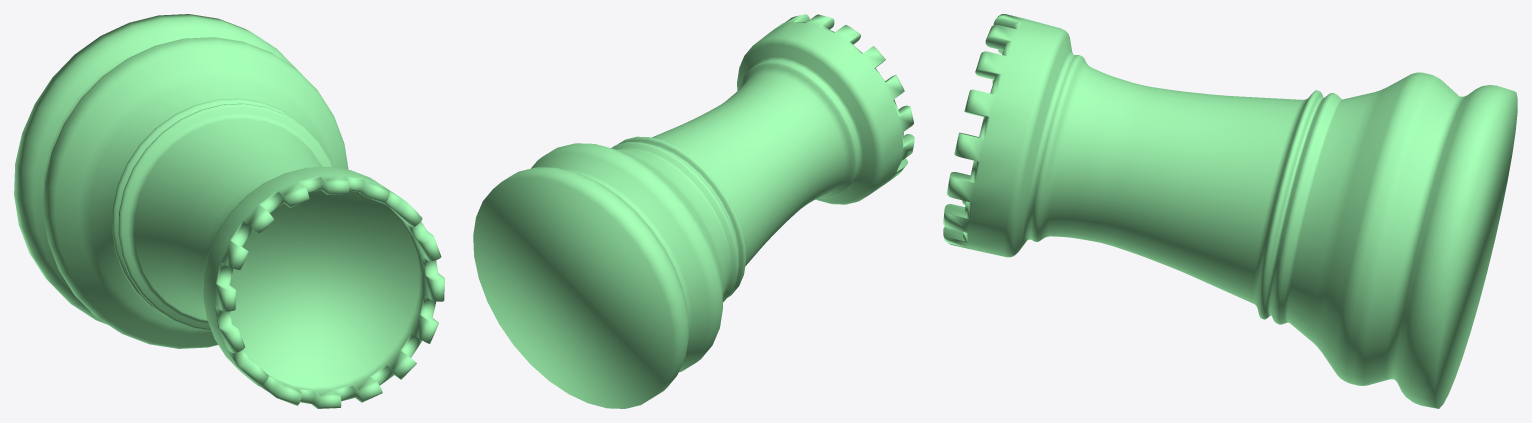
File: dark_rock_2.fbx
3 renders of one model, left to right at view 1: azimuth 30°, elevation 25°; view 2: azimuth 150°, elevation 25°; view 3: azimuth 270°, elevation 25°, orthographic. The views are drawn at different scales.
Visible parts, largest first — view 1: Dark Rock2; view 2: Dark Rock2; view 3: Dark Rock2.
Boxes of the visible parts, x1,y1,x2,y2 form: Dark Rock2: (14,14,444,408); Dark Rock2: (473,14,914,408); Dark Rock2: (943,14,1517,408).
Bounding box in the file's own units: 21.92 × 21.5 × 33.71.
